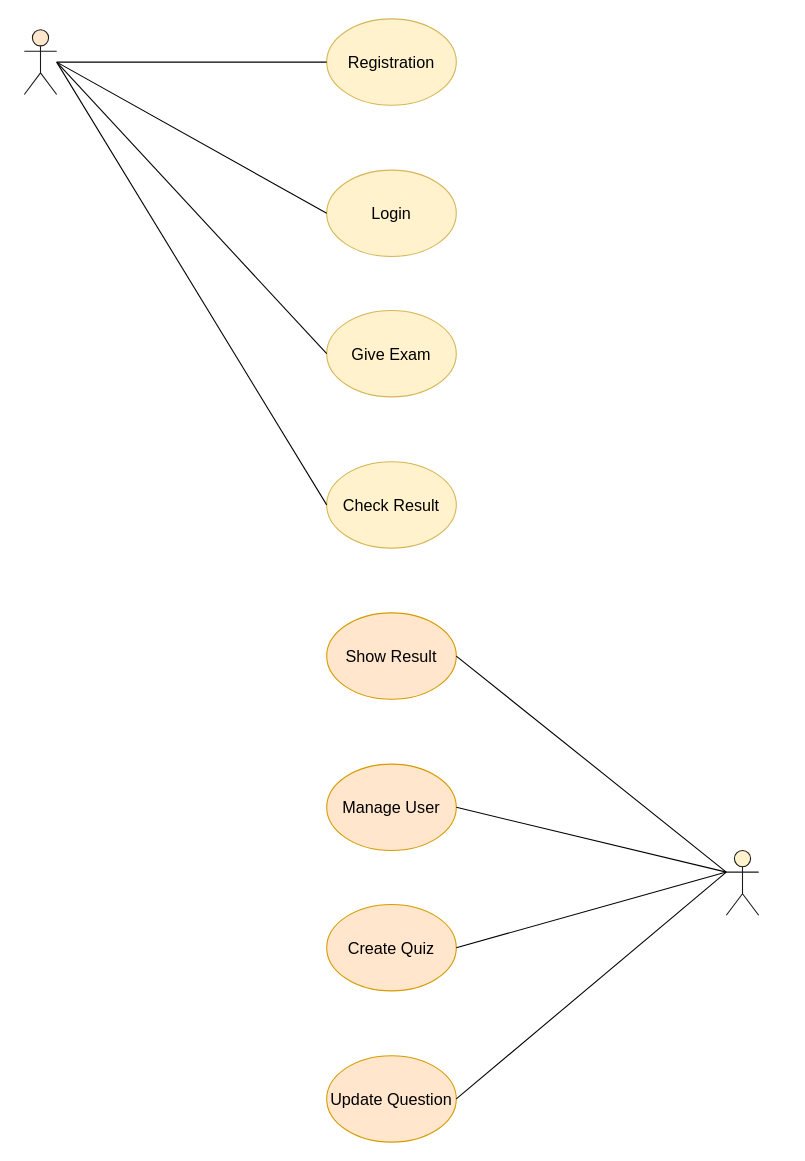
The diagram is 805 pixels wide and 1161 high, and some of its shapes have lost their labels. The box of each missing label's shape, as (x1, y1, x2, y2) in pixels:
Student: (23, 29, 57, 94)
Teacher/Admin: (725, 849, 759, 915)
